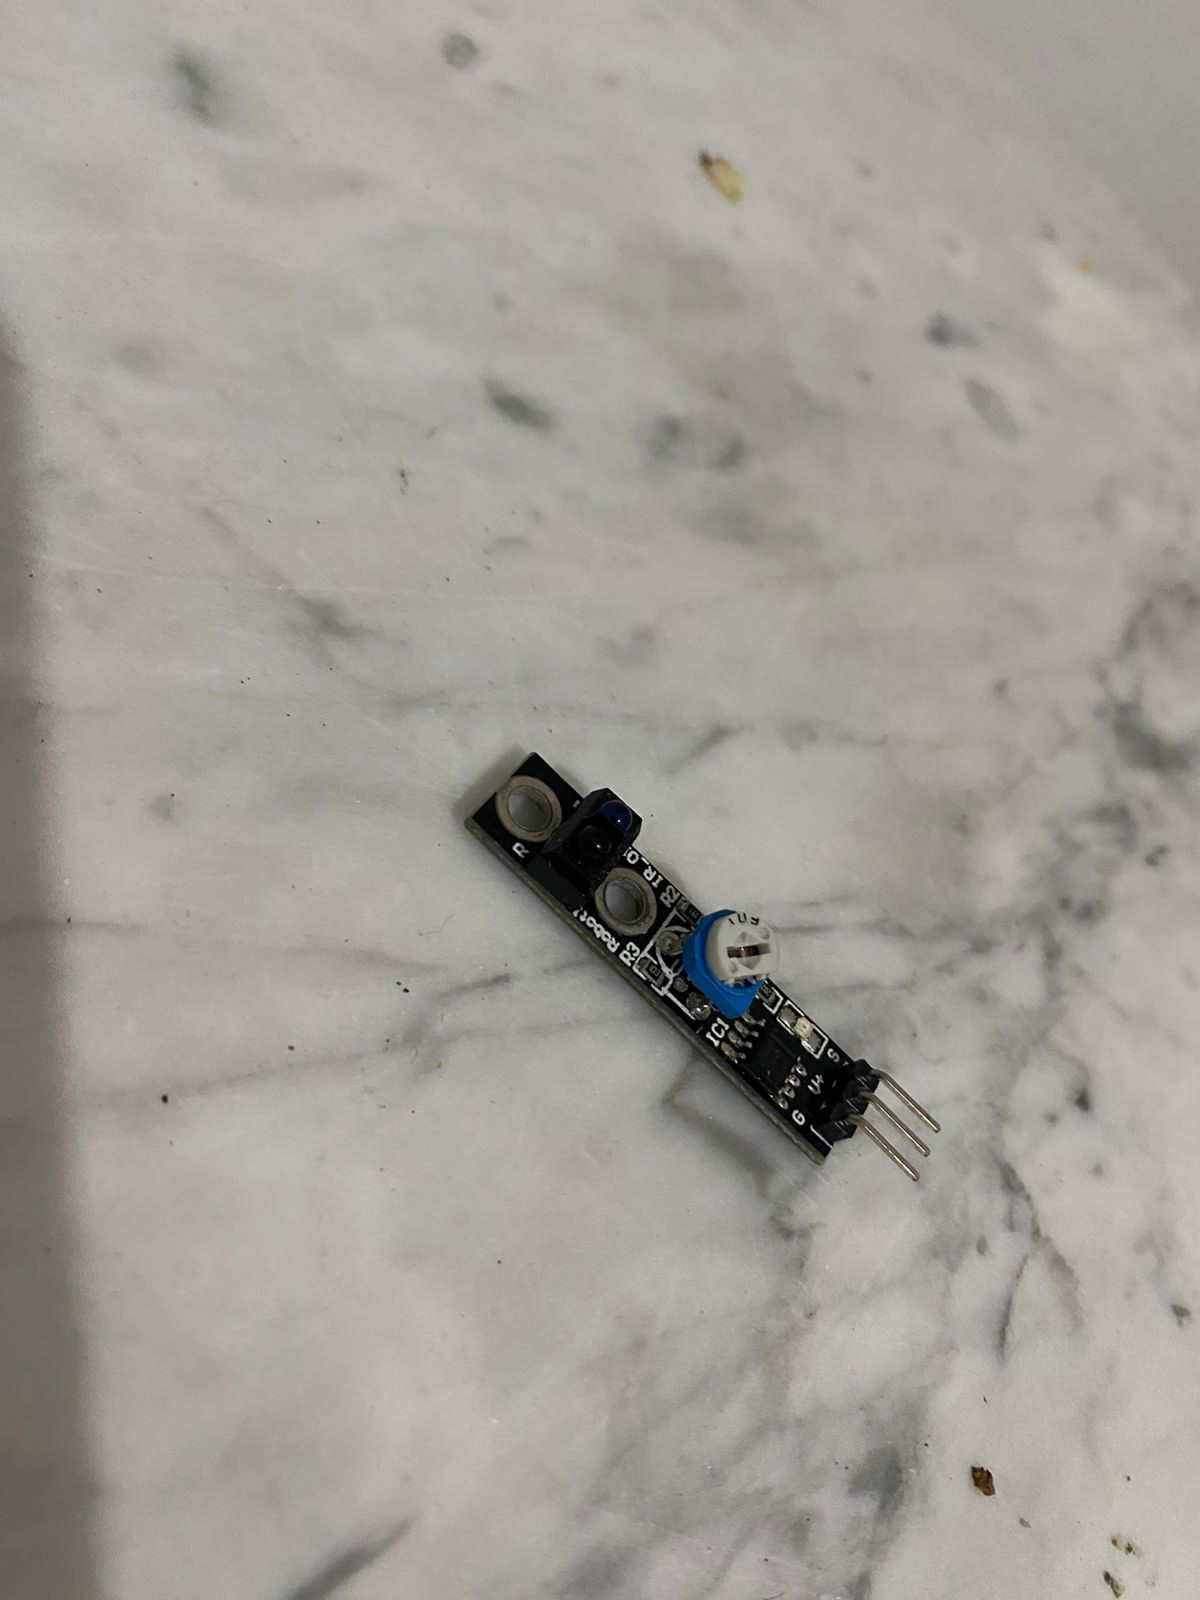ir-sensor: (418, 734, 944, 1193)
